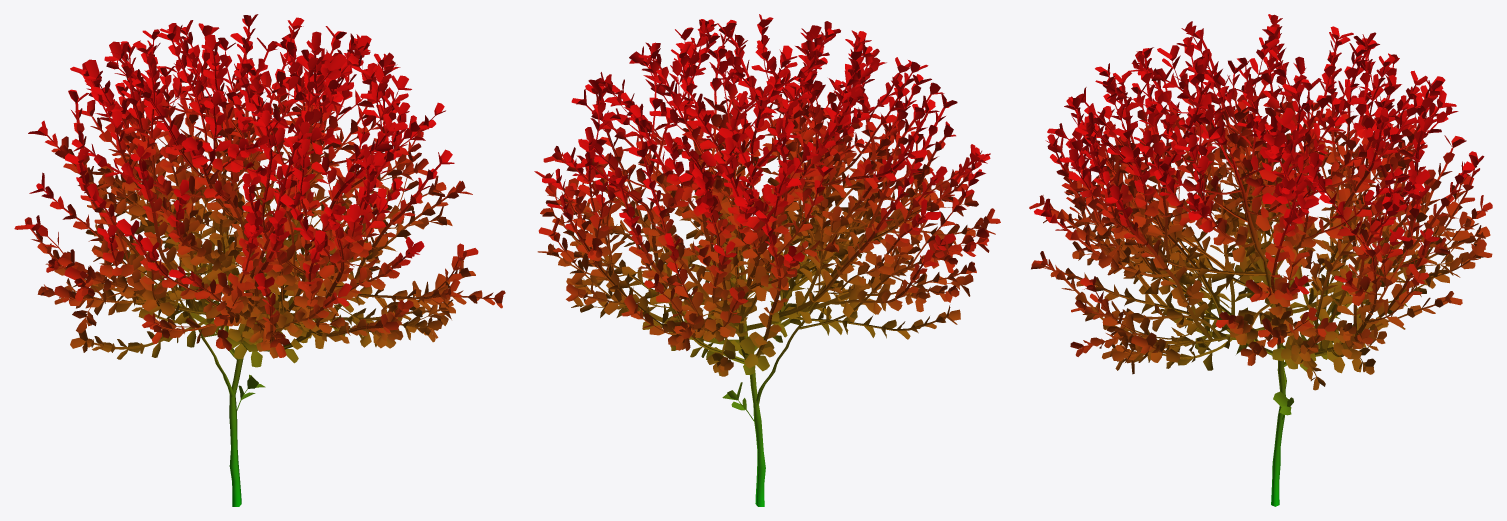
Rendered from Var3_LOD3.fbx.
The picture shows the model from 3 angles, left to right: view 1: azimuth 30°, elevation 25°; view 2: azimuth 150°, elevation 25°; view 3: azimuth 270°, elevation 25°; orthographic projection. The views are drawn at different scales.
Visible parts, largest first — view 1: _dvnc_Var3_LOD3; view 2: _dvnc_Var3_LOD3; view 3: _dvnc_Var3_LOD3.
Part boxes in pixels (x1=…): _dvnc_Var3_LOD3: x1=14, y1=14, x2=505, y2=506; _dvnc_Var3_LOD3: x1=534, y1=14, x2=1000, y2=506; _dvnc_Var3_LOD3: x1=1029, y1=14, x2=1492, y2=506.
Bounding box in the file's own units: 71.58 × 78.56 × 70.58.
